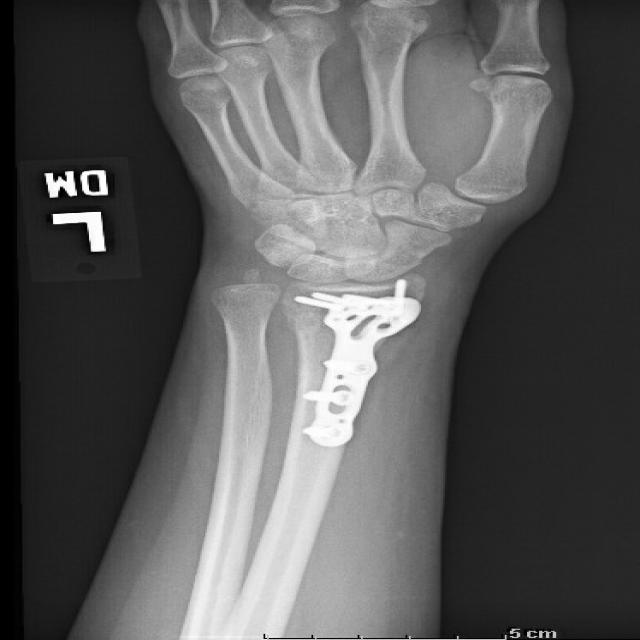x-ray: (289, 280, 431, 450)
